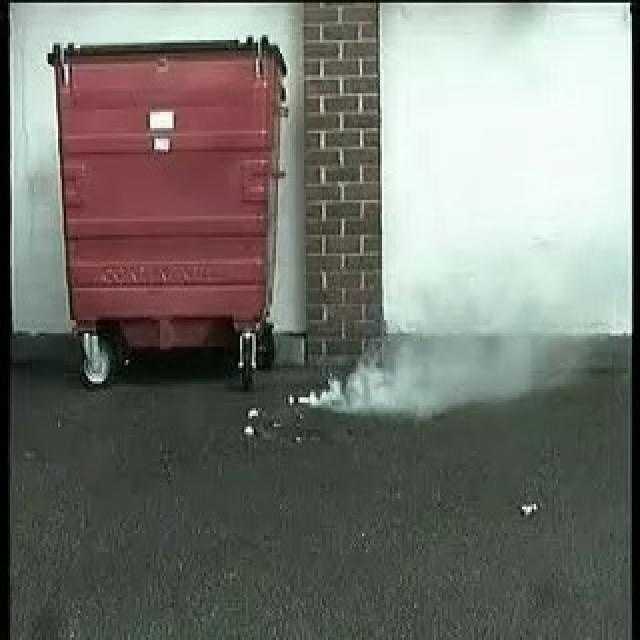smoke: (286, 286, 541, 424)
